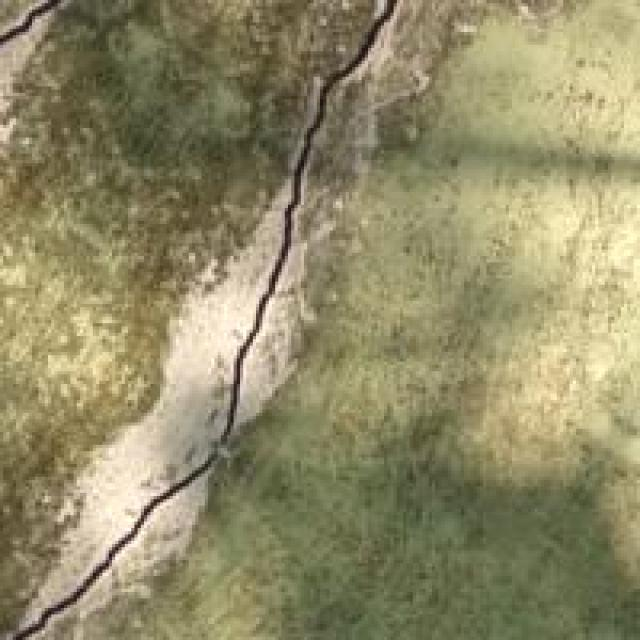crack: (0, 0, 438, 638)
